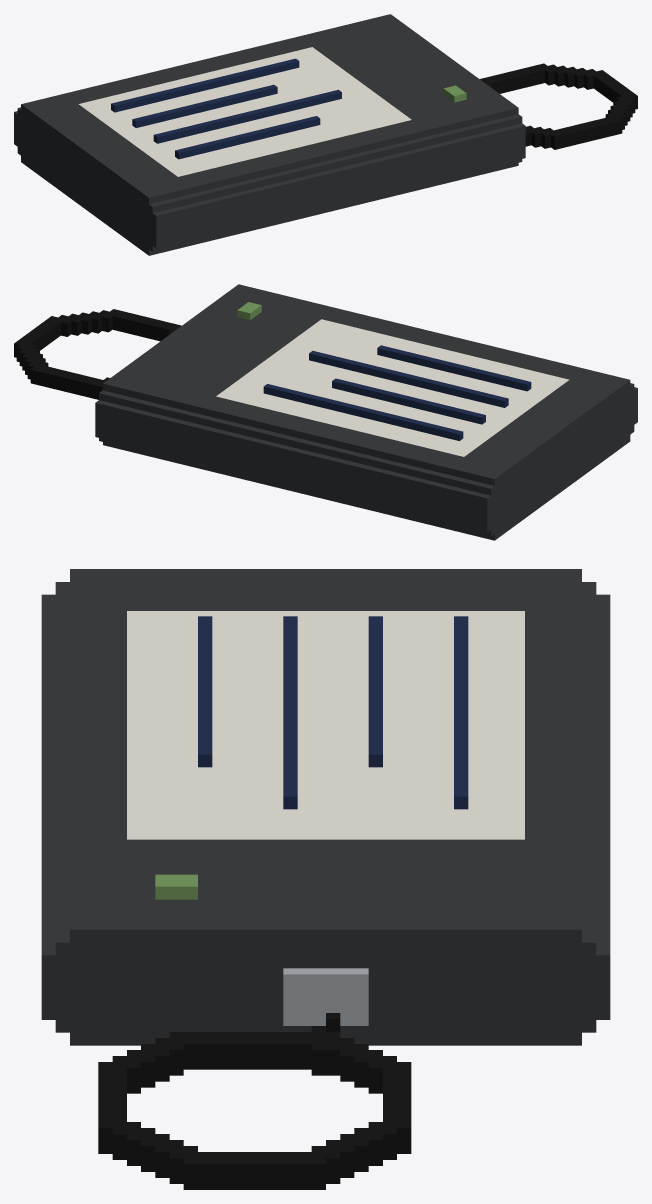
Rendered from evacuation_records_drive.glb.
3 renders of one model, top to bottom at view 1: azimuth 30°, elevation 25°; view 2: azimuth 150°, elevation 25°; view 3: azimuth 270°, elevation 25°, orthographic. The views are drawn at different scales.
Visible parts, largest first — view 1: evacuation_records_drive:compound; view 2: evacuation_records_drive:compound; view 3: evacuation_records_drive:compound.
Boxes of the visible parts, x1=… form: evacuation_records_drive:compound: x1=14, y1=14, x2=637, y2=255; evacuation_records_drive:compound: x1=14, y1=284, x2=637, y2=540; evacuation_records_drive:compound: x1=41, y1=569, x2=610, y2=1189.
Size of the model in its own units: 0.168 by 0.02 by 0.08.
